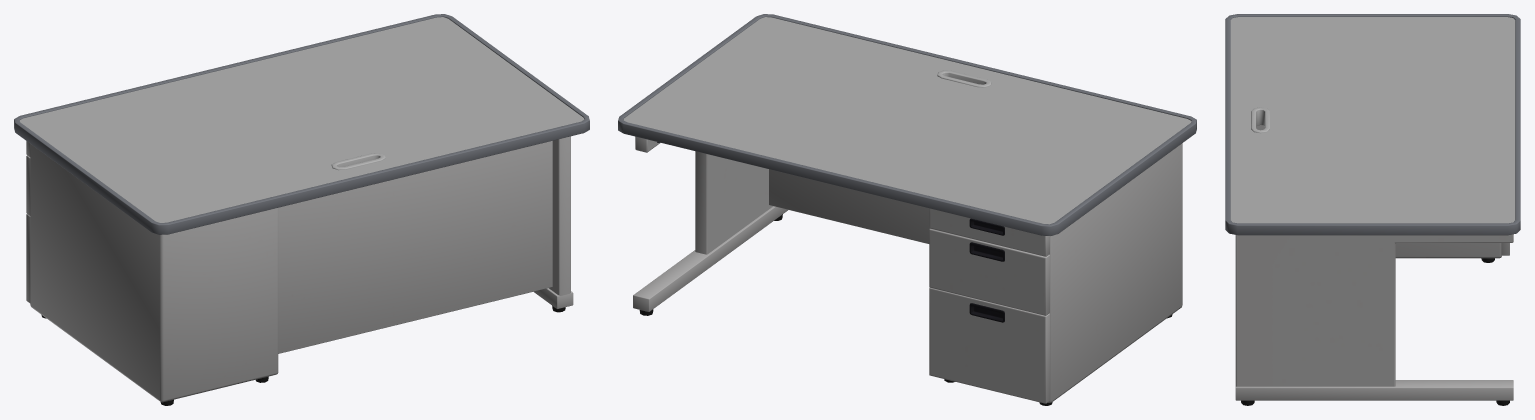
File: Desk_A.fbx
3 renders of one model, left to right at view 1: azimuth 30°, elevation 25°; view 2: azimuth 150°, elevation 25°; view 3: azimuth 270°, elevation 25°, orthographic.
Visible parts, largest first — view 1: Desk_A; view 2: Desk_A; view 3: Desk_A.
Boxes of the visible parts, x1,y1,x2,y2 form: Desk_A: (14, 14, 589, 405); Desk_A: (618, 14, 1196, 405); Desk_A: (1225, 14, 1520, 405).
Size of the model in its own units: 2.43 by 1.02 by 1.44.
